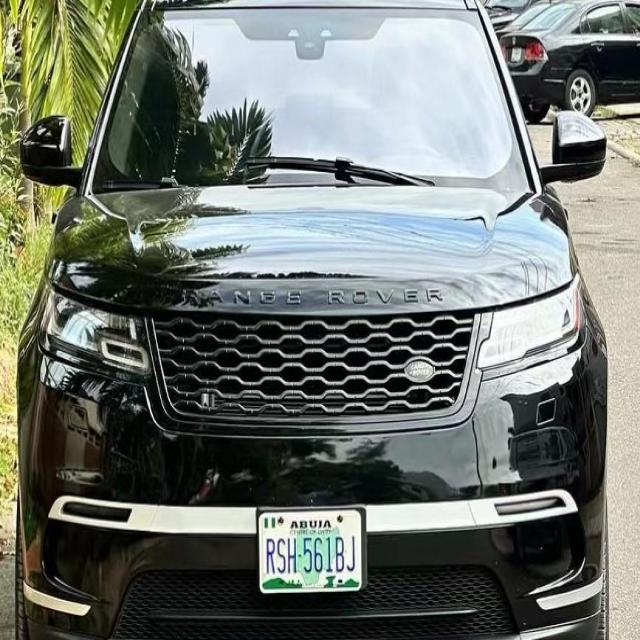Nigerian License Plate - vdataset benjamin-daria: (254, 503, 366, 598)
